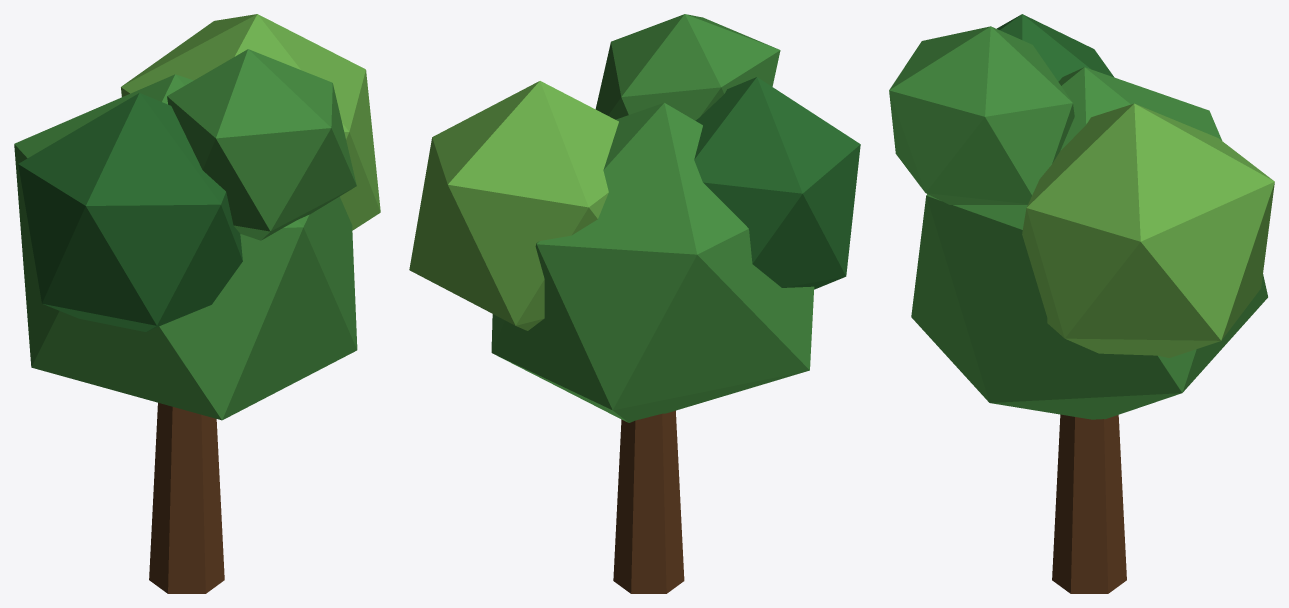
Rendered from TreeRound.fbx.
3 views of the same model, side by side, from view 1: azimuth 30°, elevation 25°; view 2: azimuth 150°, elevation 25°; view 3: azimuth 270°, elevation 25° (orthographic). The views are drawn at different scales.
Parts seen in each view (by area): view 1: TreeRound; view 2: TreeRound; view 3: TreeRound.
Boxes of the visible parts, x1,y1,x2,y2 form: TreeRound: (14,14,380,593); TreeRound: (409,14,860,593); TreeRound: (889,14,1274,593).
Bounding box in the file's own units: 2.1 × 2.96 × 1.85.
